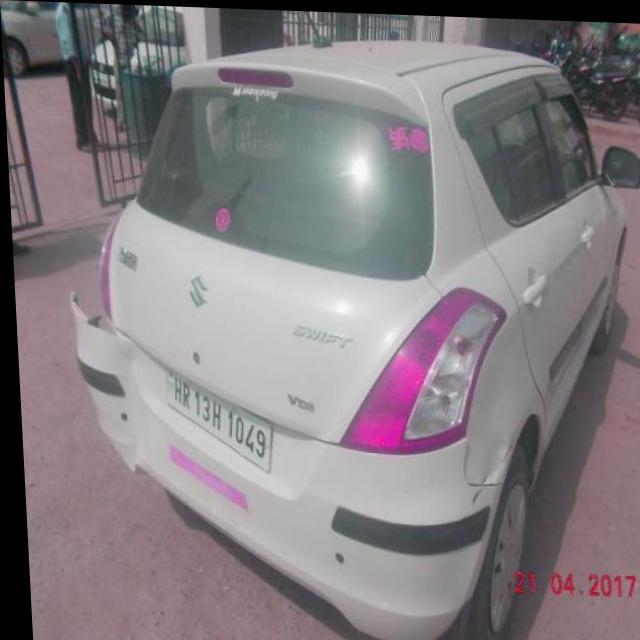Car-Damage: (66, 291, 135, 476), (461, 436, 514, 506)
